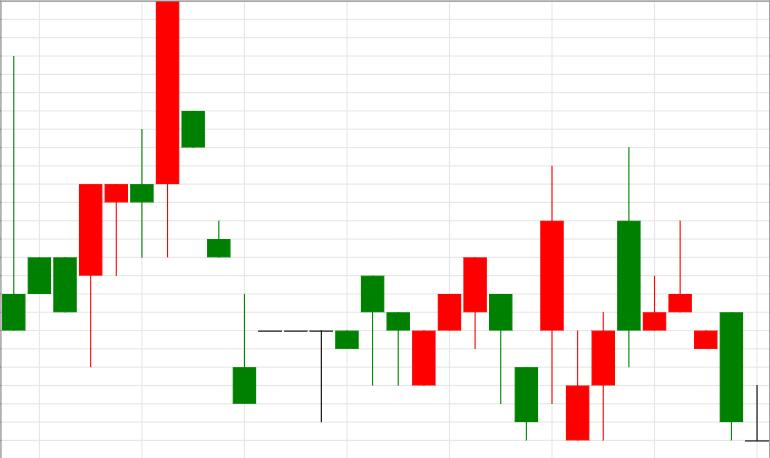hanging_man_fall: (233, 275, 384, 422)
